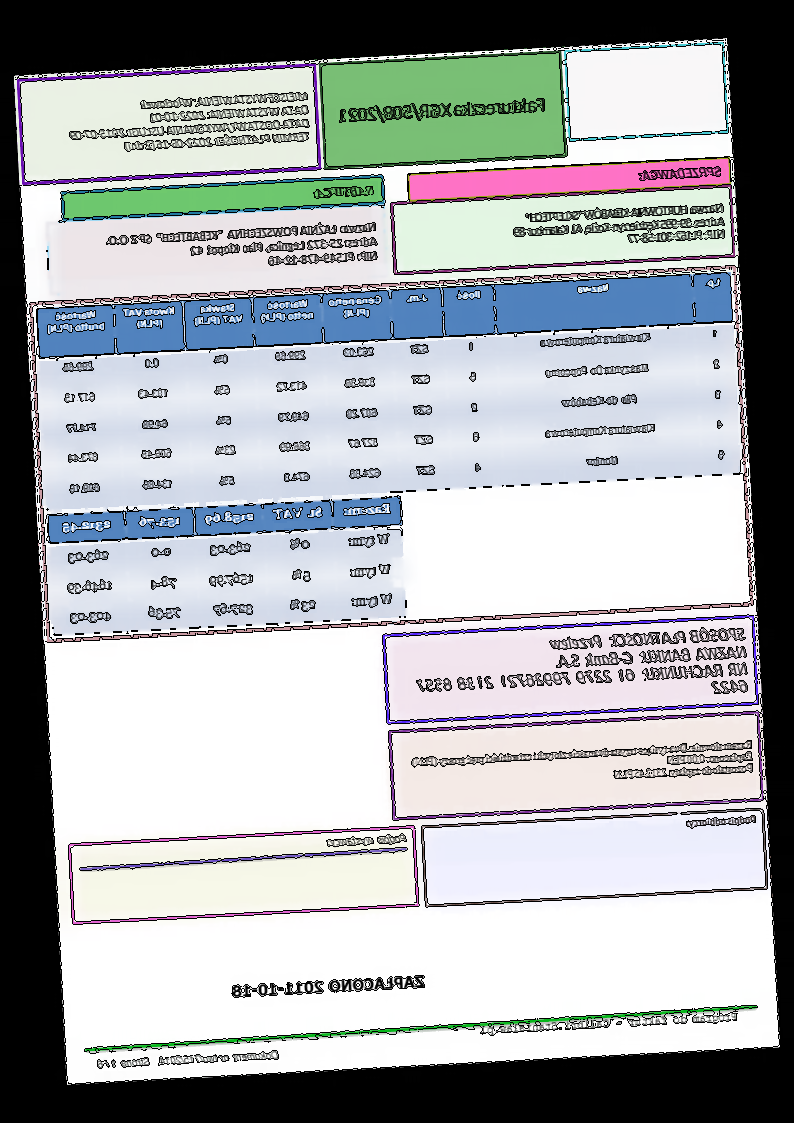Table: (37, 269, 744, 511), (48, 493, 410, 638)
TextBox: (408, 622, 752, 717), (406, 736, 759, 797), (100, 216, 382, 281), (65, 87, 316, 160), (507, 199, 731, 254), (477, 1007, 741, 1039), (337, 92, 552, 129), (227, 968, 432, 1003), (93, 1044, 284, 1074), (325, 827, 411, 855), (637, 162, 728, 185), (683, 811, 763, 833), (312, 180, 380, 201)
